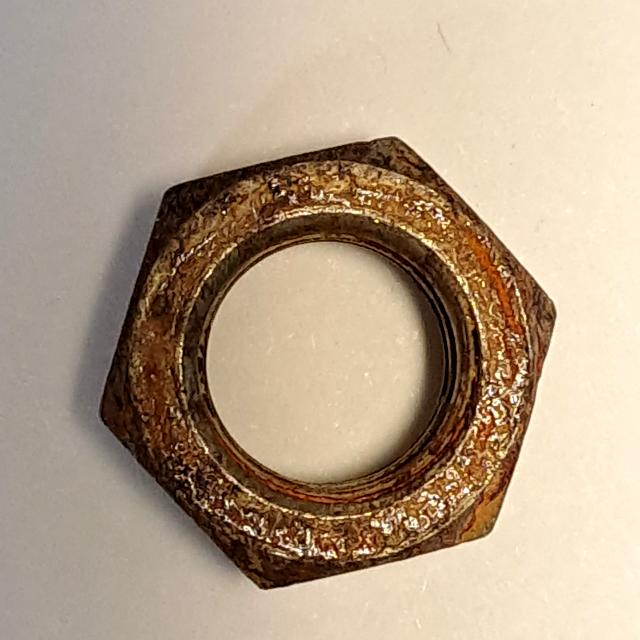Rust: (87, 124, 566, 601)
